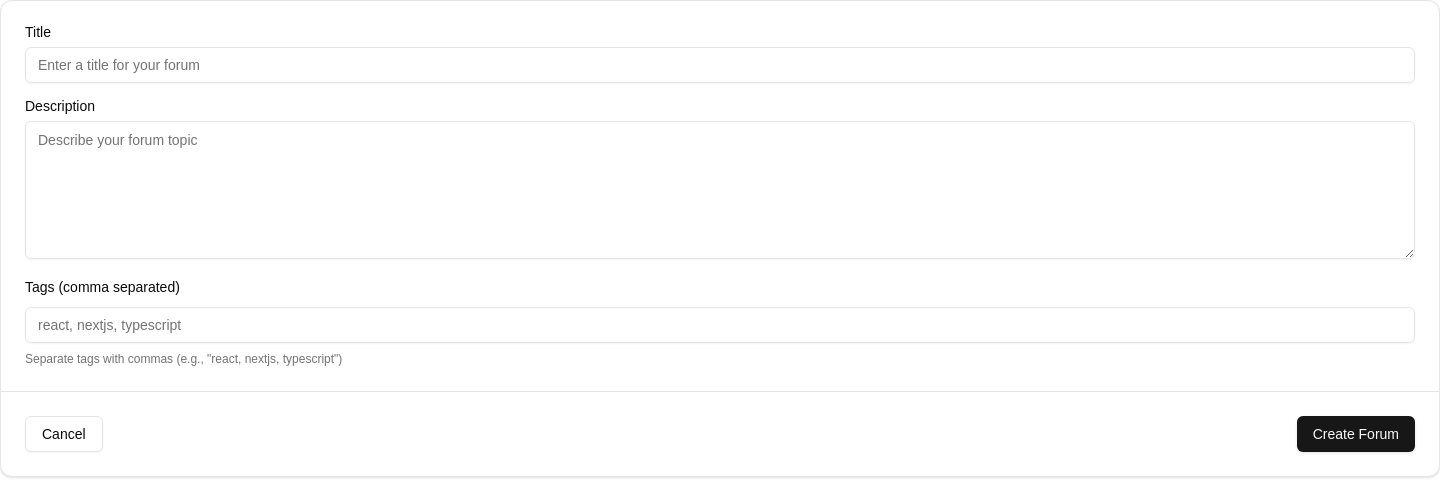
Test case: ForumForm › shows validation errors when submitting an empty form
The image size is (1440, 499).
What coordinates should you click on to do the following:
click the button "Create Forum"
I would click on:
 (1356, 434)
Its box is 1297,416 -> 1415,452.
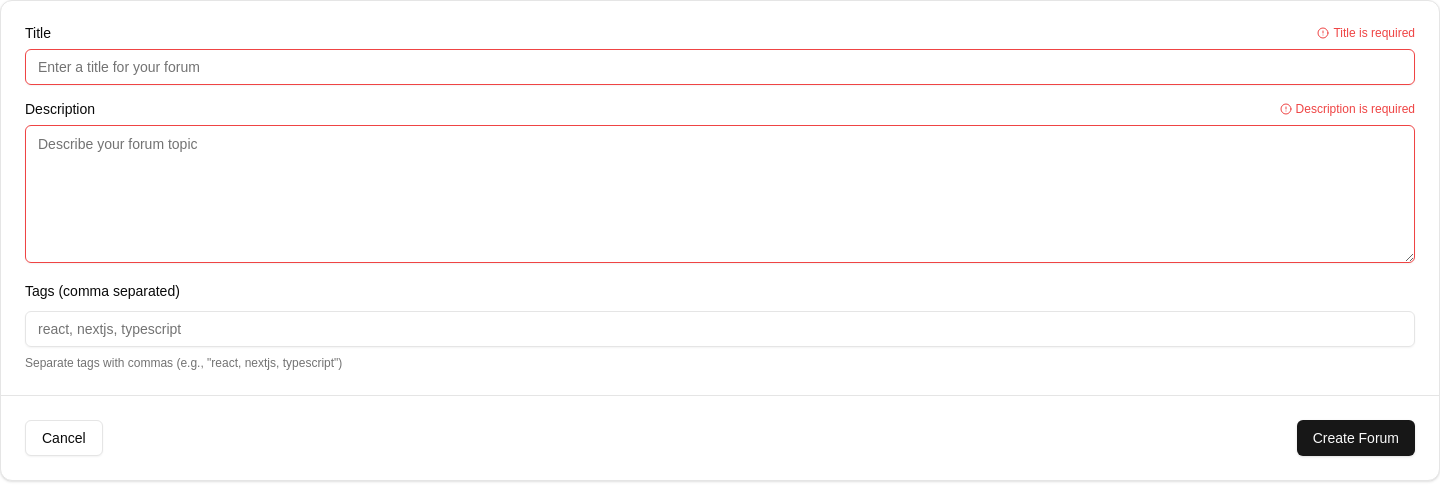
Expected: the text "Title is required" is shown, 1317,25 -> 1415,41
Expected: the text "Description is required" is shown, 1280,101 -> 1415,117
